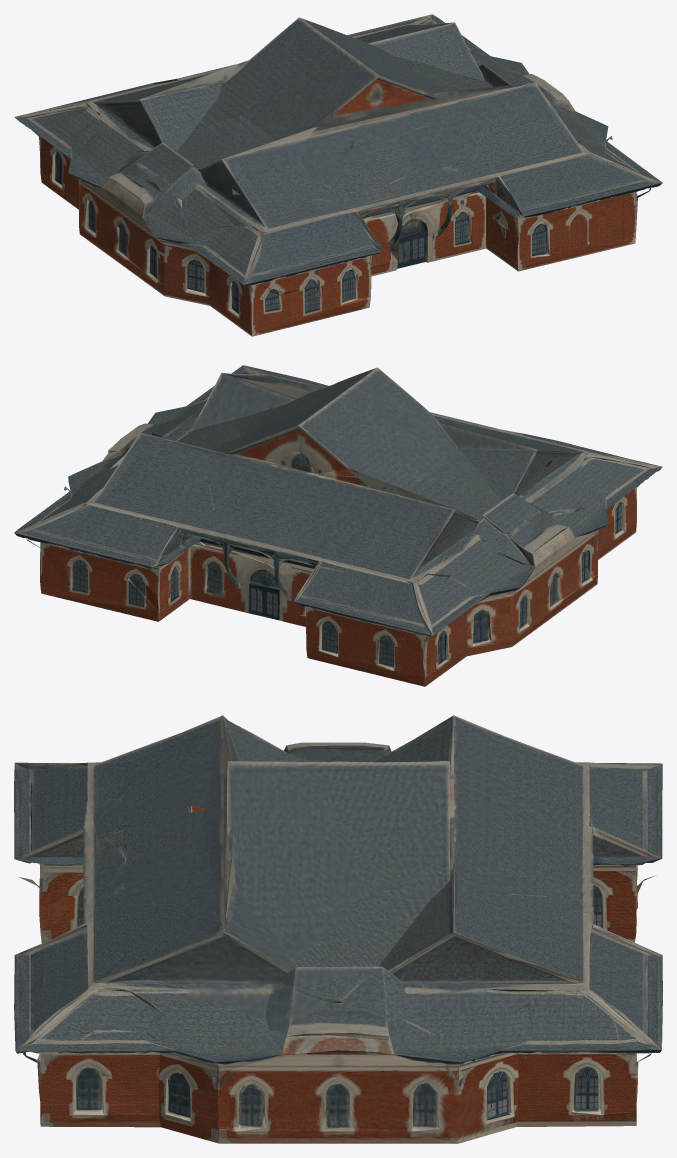
File: market.glb
The picture shows the model from 3 angles, top to bottom: view 1: azimuth 30°, elevation 25°; view 2: azimuth 150°, elevation 25°; view 3: azimuth 270°, elevation 25°; orthographic projection. The views are drawn at different scales.
Size of the model in its own units: 1.89 by 0.6575 by 1.65.
Materials: 1 (1 with a texture image).
